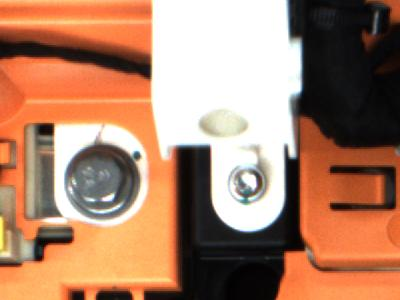nut_b: (60, 144, 143, 221)
screw_m: (224, 165, 272, 216)
